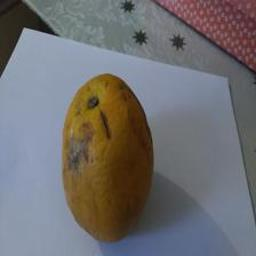Orange Semifresh: (54, 66, 163, 256)
